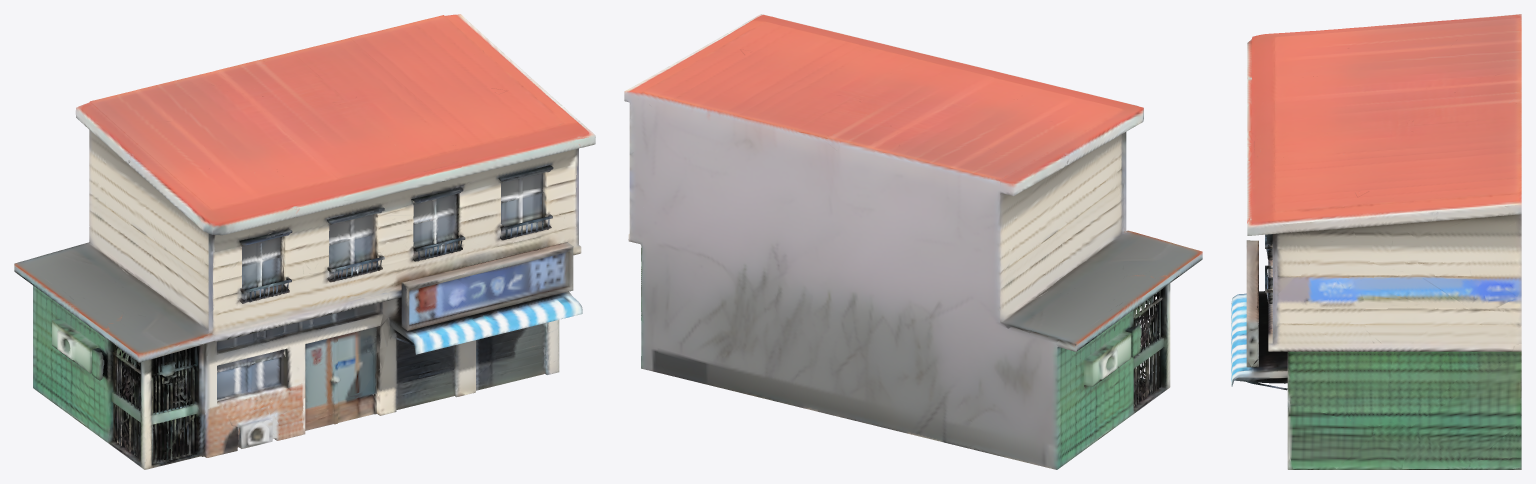
File: base_basic_shaded.fbx
3 views of the same model, side by side, from view 1: azimuth 30°, elevation 25°; view 2: azimuth 150°, elevation 25°; view 3: azimuth 270°, elevation 25° (orthographic).
Parts seen in each view (by area): view 1: model; view 2: model; view 3: model.
Boxes of the visible parts, <box> form: model: <box>14,14,595,469</box>; model: <box>624,14,1202,469</box>; model: <box>1231,14,1521,469</box>.
Bounding box in the file's own units: 183 × 107 × 101.
